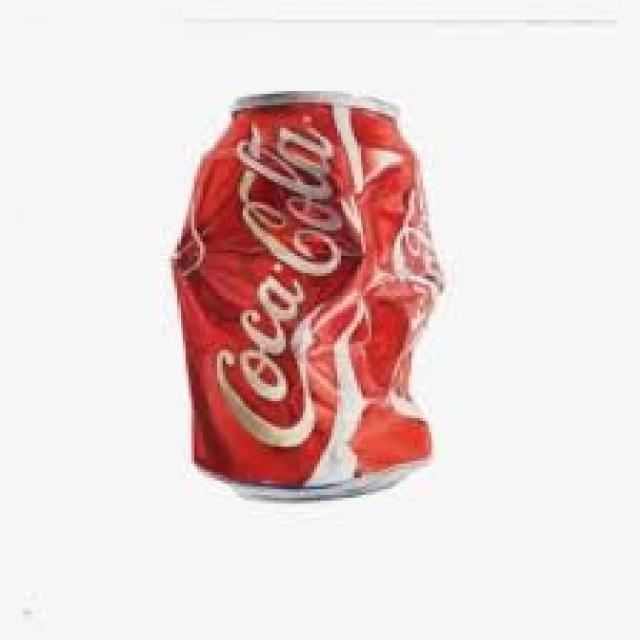aluminum_can: (174, 94, 446, 499)
